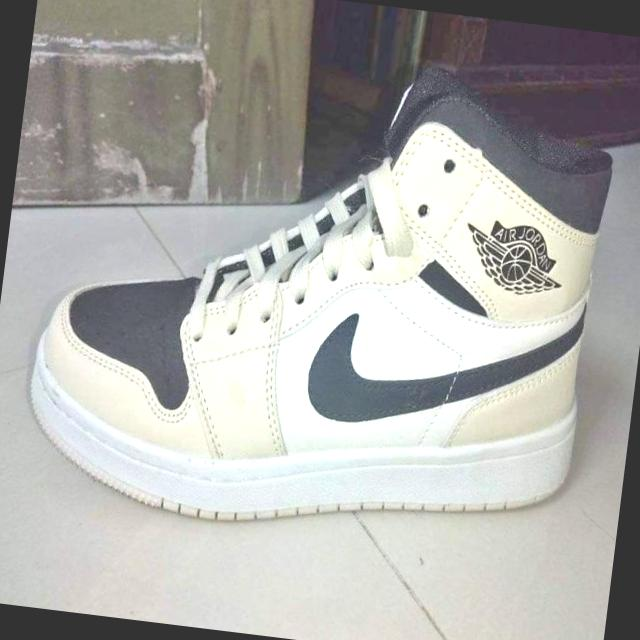nike_fake_jordan: (15, 12, 622, 563)
